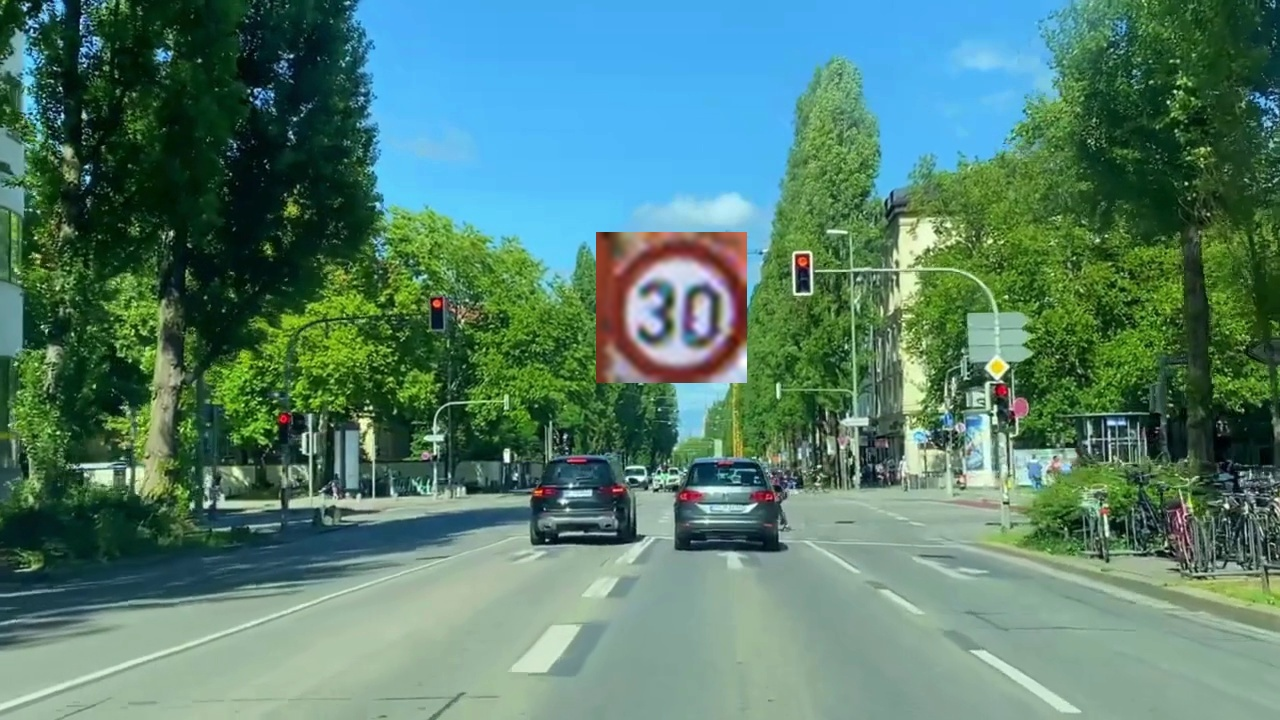Speed 30: (596, 232, 747, 383)
